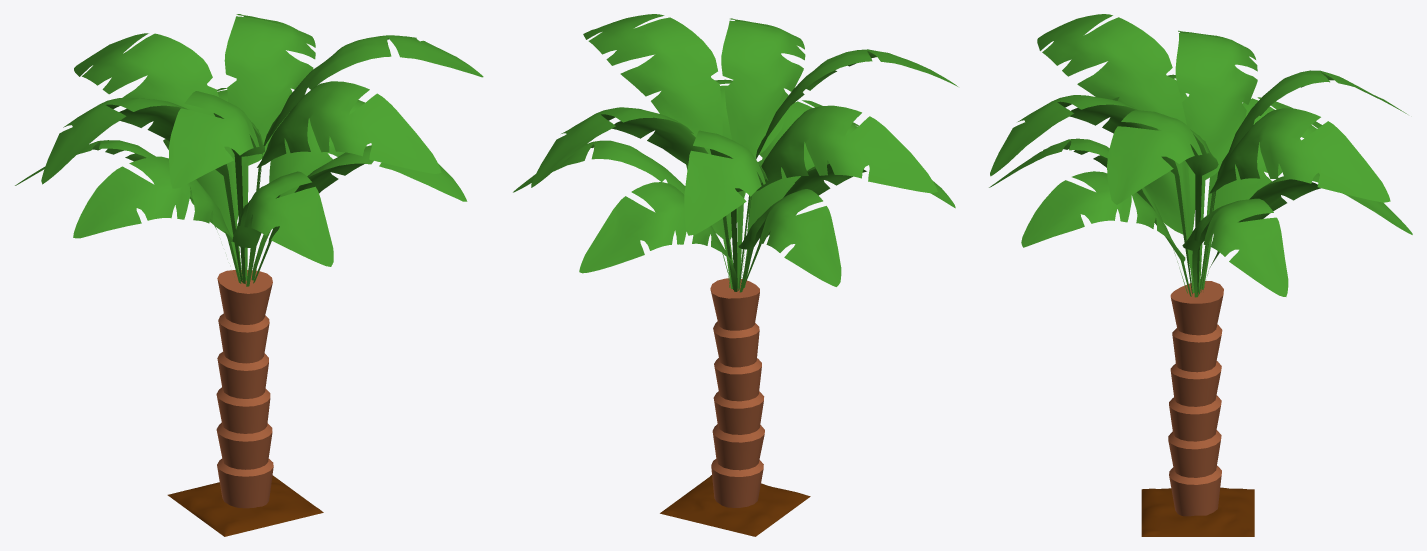
The model's file is oil-palm-p3-leaf.glb.
The picture shows the model from 3 angles, left to right: view 1: azimuth 30°, elevation 25°; view 2: azimuth 150°, elevation 25°; view 3: azimuth 270°, elevation 25°; orthographic projection. The views are drawn at different scales.
Parts seen in each view (by area): view 1: 3_nft_summer; view 2: 3_nft_summer; view 3: 3_nft_summer.
Boxes of the visible parts, x1,y1,x2,y2 form: 3_nft_summer: [15, 14, 483, 536]; 3_nft_summer: [513, 14, 957, 536]; 3_nft_summer: [989, 14, 1412, 536].
Bounding box in the file's own units: 5.68 × 6.12 × 5.26.
